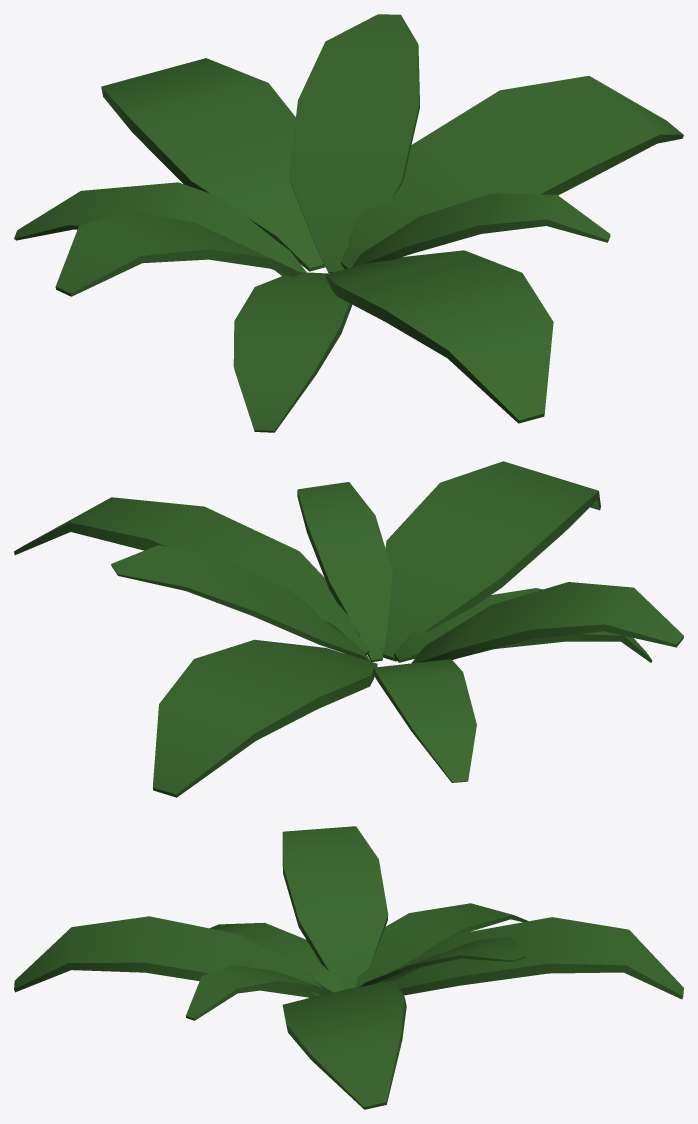
Rendered from Plant_3.fbx.
3 views of the same model, one above another, from view 1: azimuth 30°, elevation 25°; view 2: azimuth 150°, elevation 25°; view 3: azimuth 270°, elevation 25° (orthographic). The views are drawn at different scales.
Parts seen in each view (by area): view 1: Plant_3; view 2: Plant_3; view 3: Plant_3.
Boxes of the visible parts, <box> form: Plant_3: <box>14,14,683,432</box>; Plant_3: <box>14,461,683,797</box>; Plant_3: <box>14,826,683,1109</box>.
Size of the model in its own units: 322 by 80.83 by 361.
